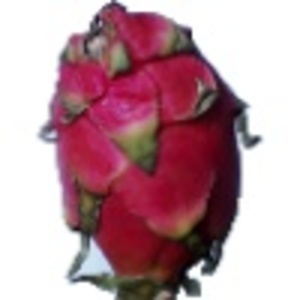pitaia: (39, 1, 265, 300)
